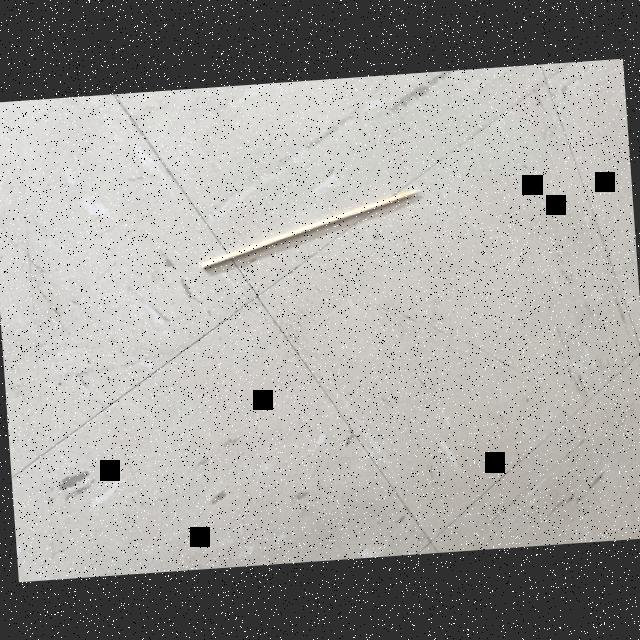stick: (188, 174, 432, 288)
